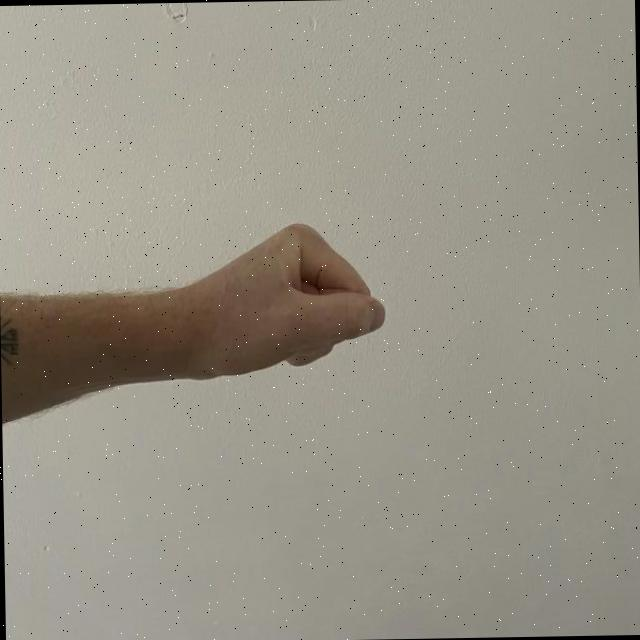rock: (119, 218, 391, 402)
